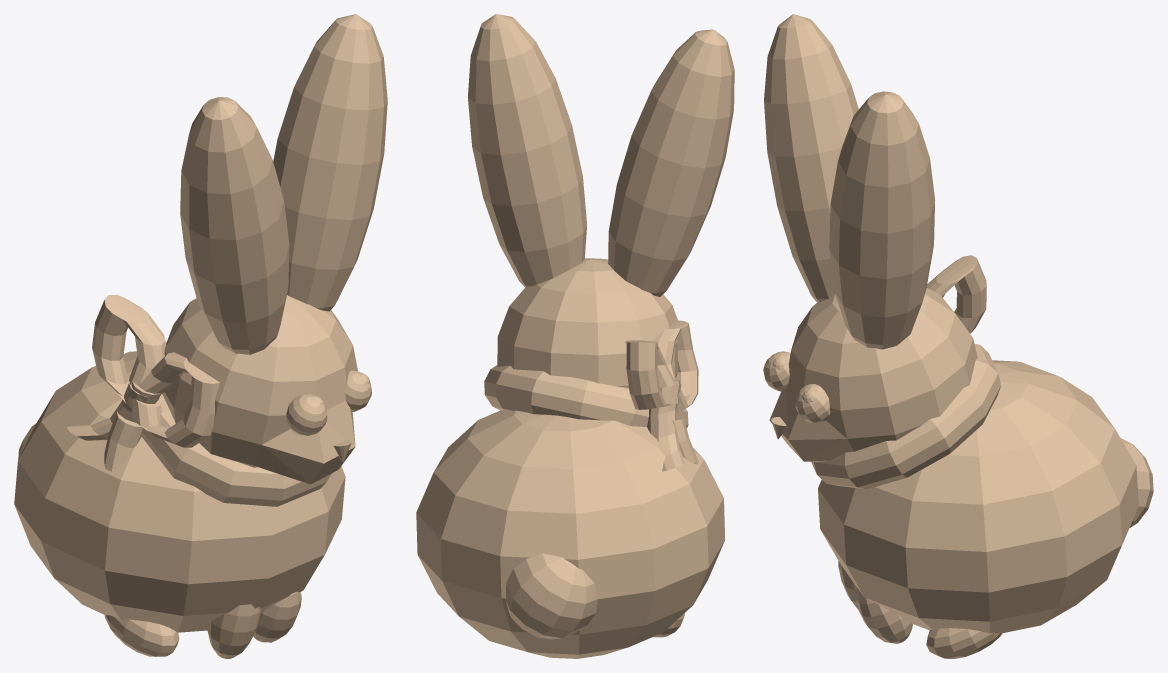
The picture shows the model from 3 angles, left to right: view 1: azimuth 30°, elevation 25°; view 2: azimuth 150°, elevation 25°; view 3: azimuth 270°, elevation 25°; orthographic projection. The views are drawn at different scales.
Visible parts, largest first — view 1: world; view 2: world; view 3: world.
Part boxes in pixels (x1=…): world: x1=14, y1=14, x2=387, y2=658; world: x1=416, y1=14, x2=734, y2=658; world: x1=763, y1=14, x2=1153, y2=658.
Bounding box in the file's own units: 0.3208 × 0.633 × 0.3809.
